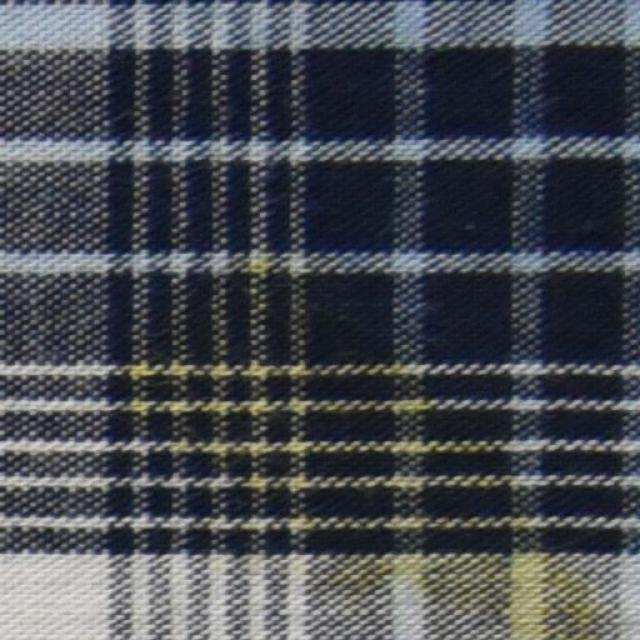Stain: (109, 242, 631, 639)
